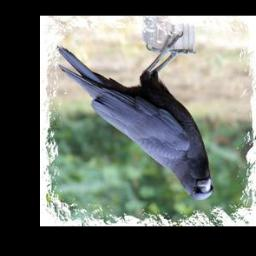Crow: (54, 29, 218, 202)
